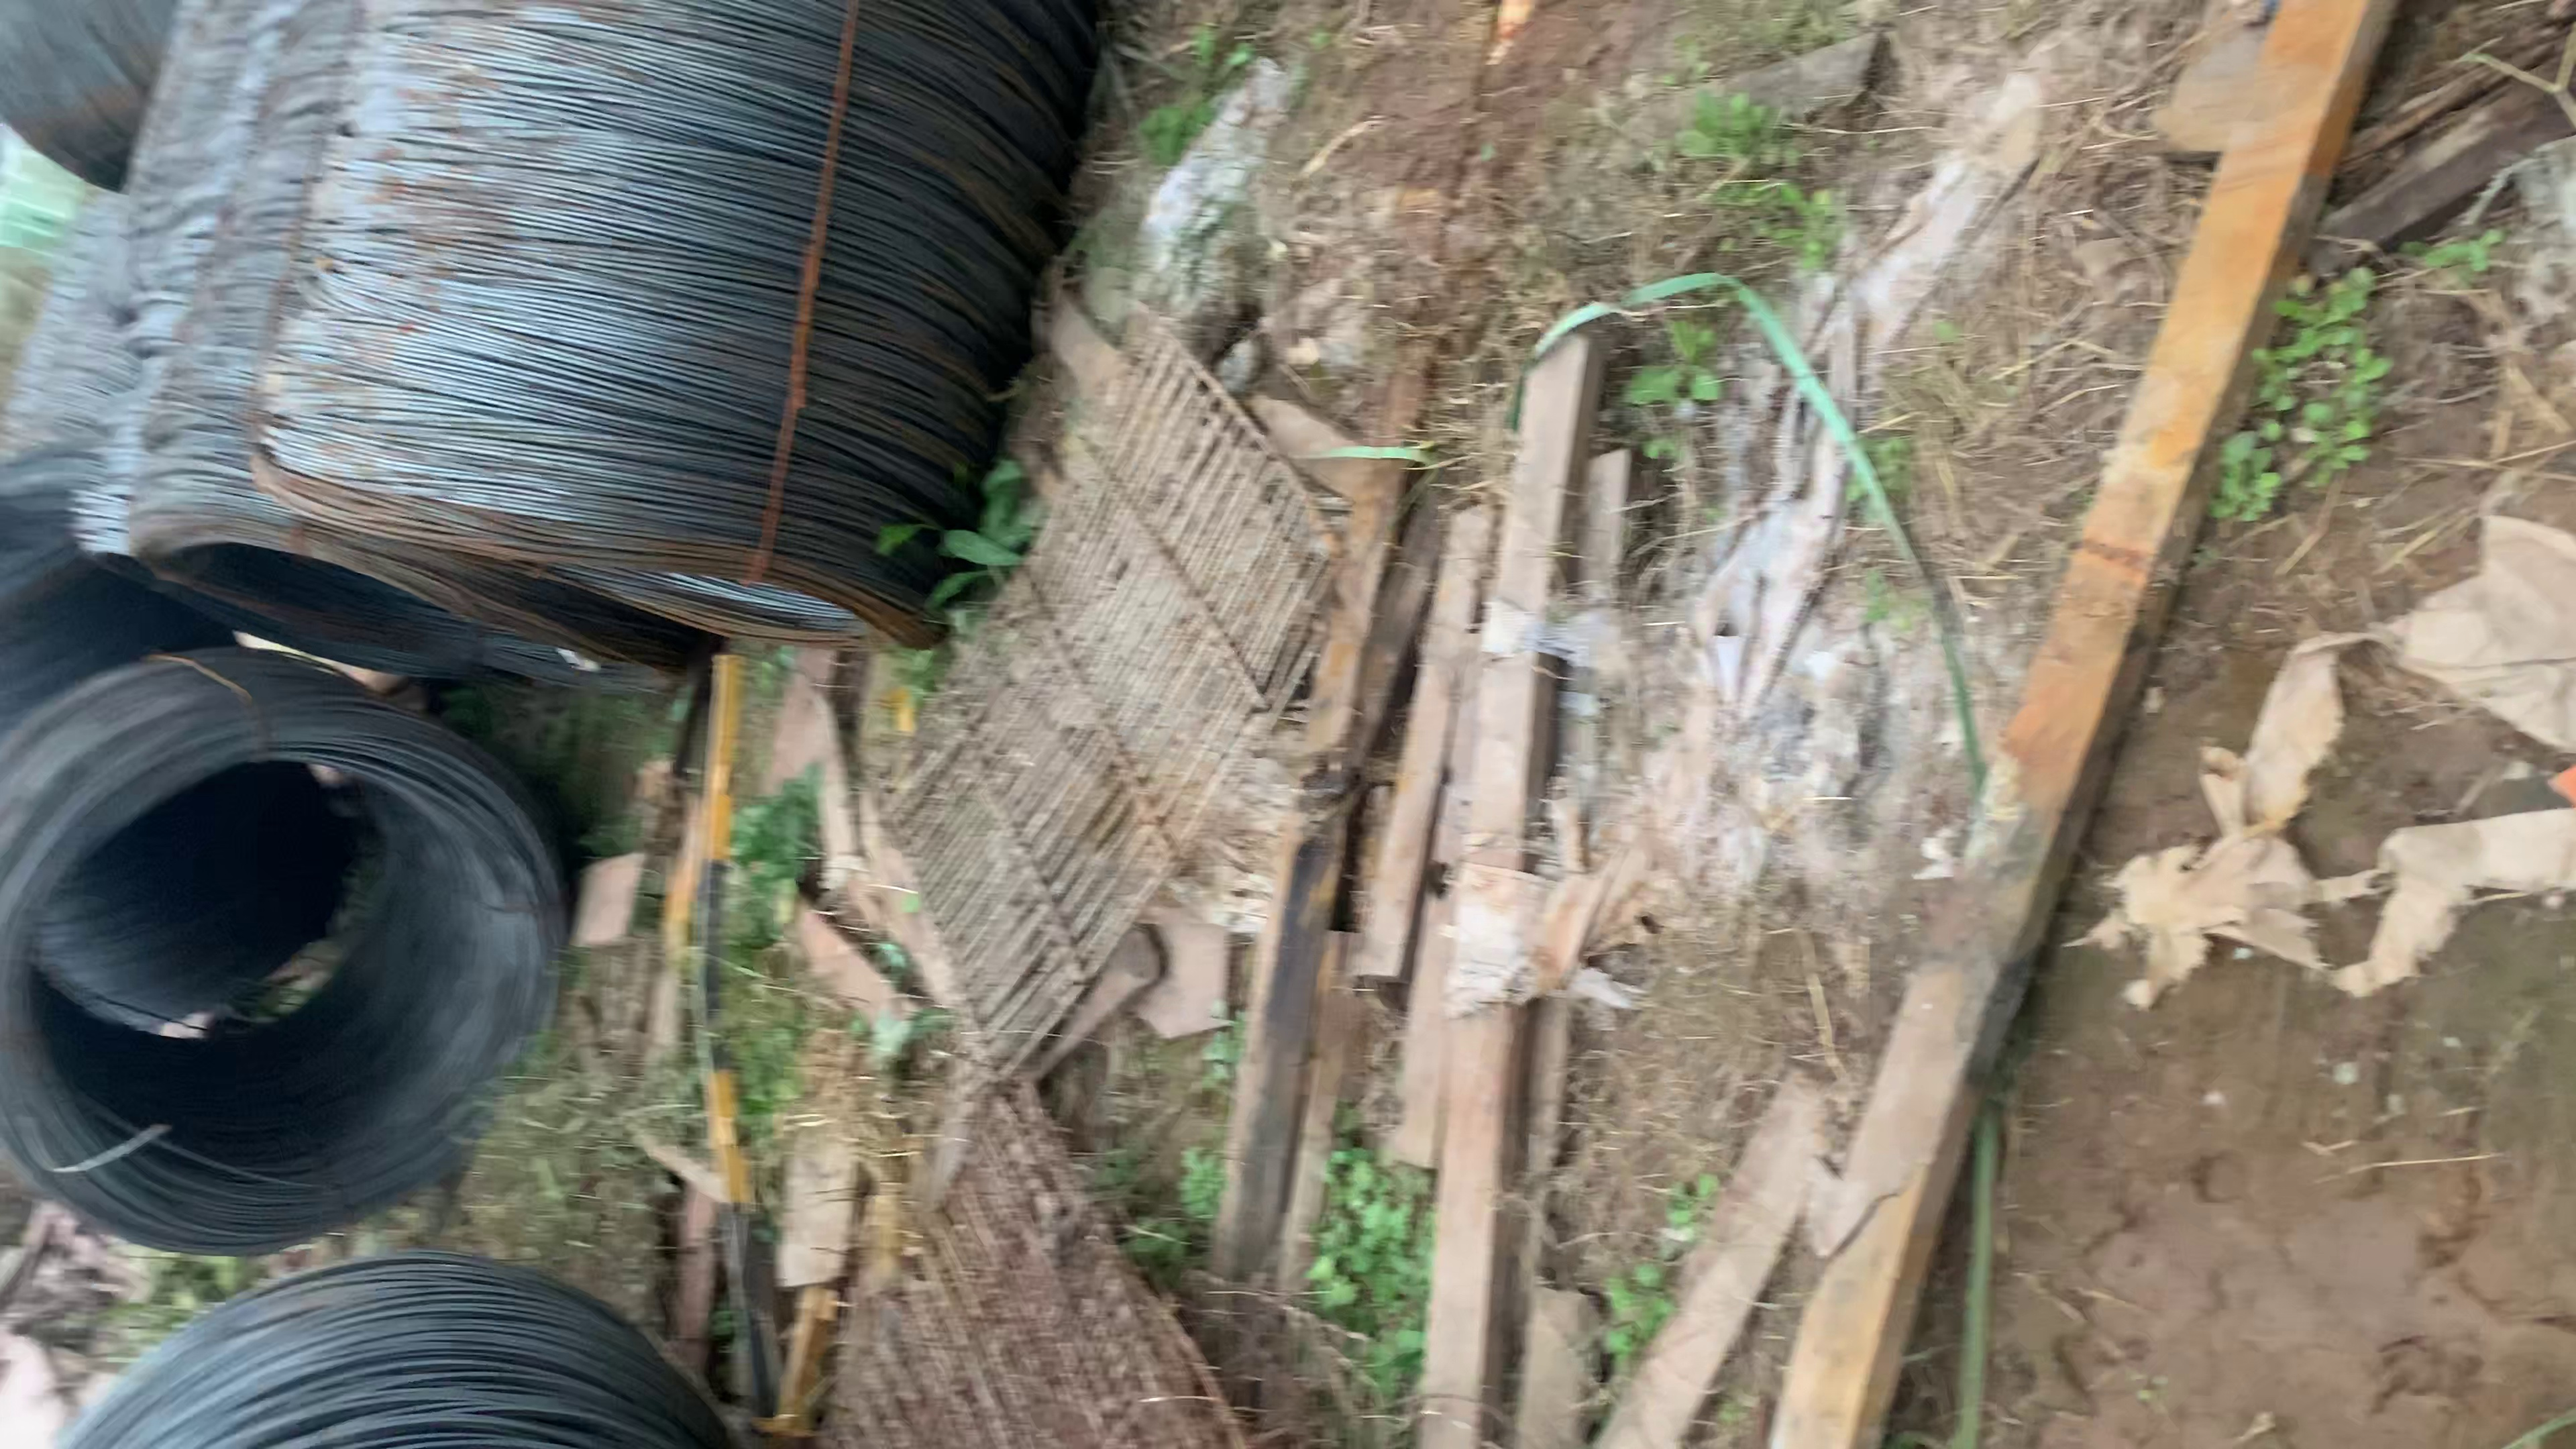coil: (0, 715, 587, 1247), (267, 421, 961, 692), (99, 506, 699, 725)
